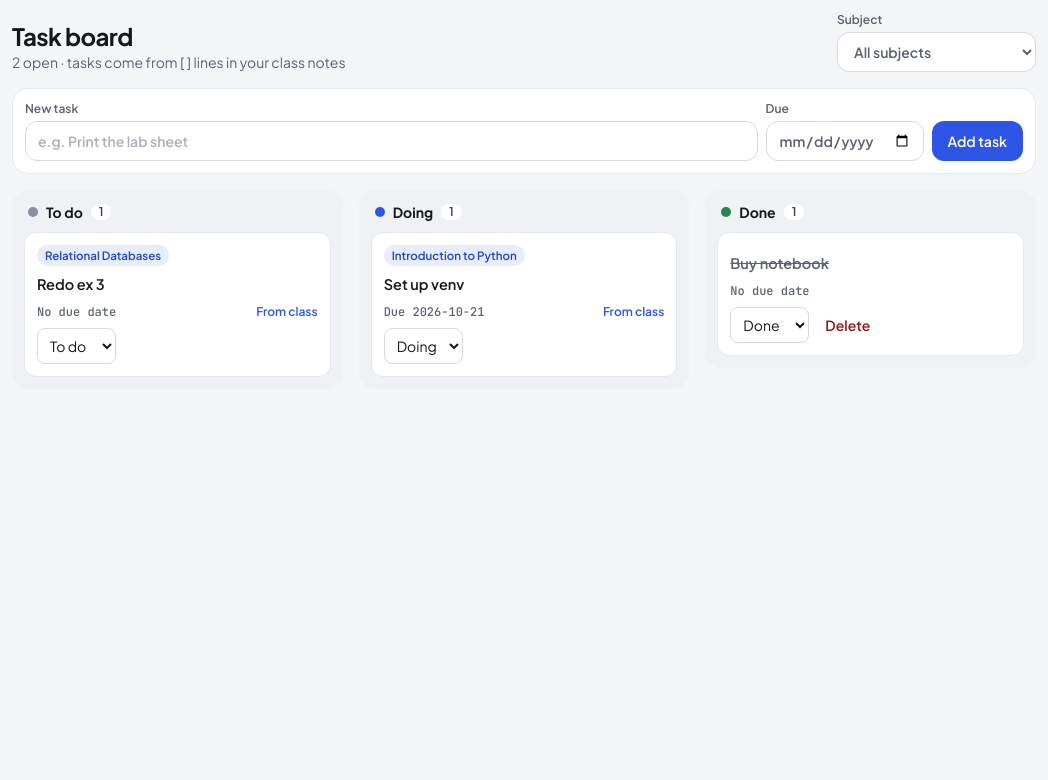
Test case: BoardPage › toasts after adding and moving a task
Type "Print slides" into the field labelled "New task" at coordinates (391, 141), box [25, 121, 758, 161]
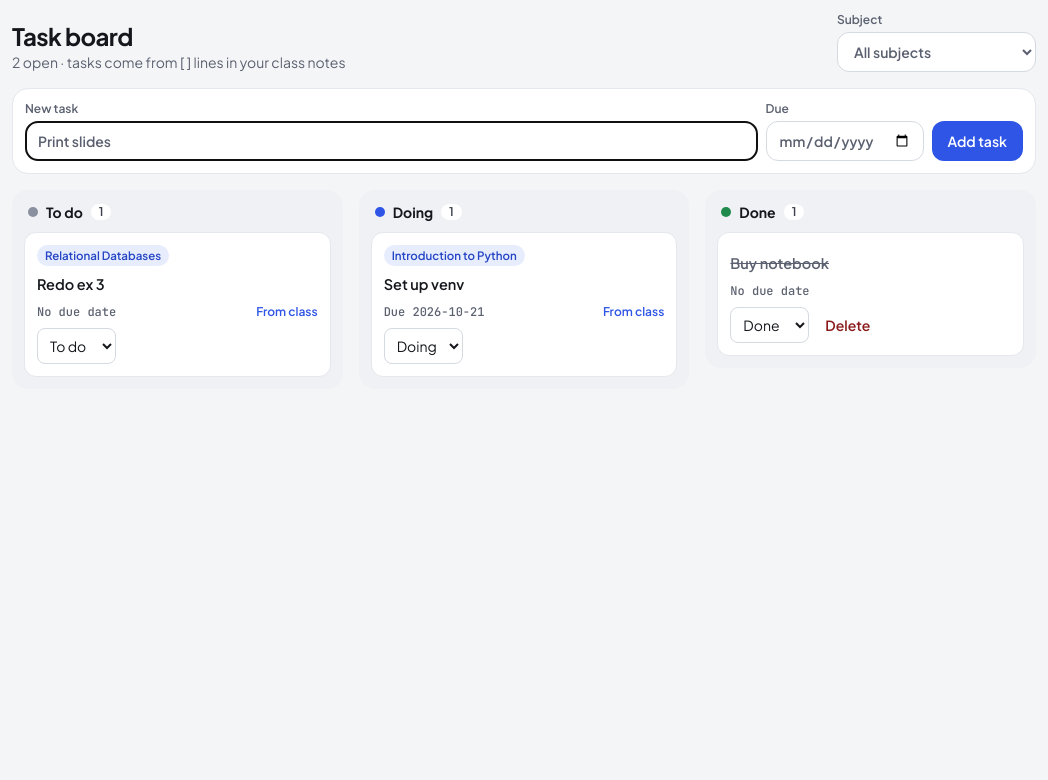
Click the button "Add task" at coordinates (977, 141), box [932, 121, 1023, 161]
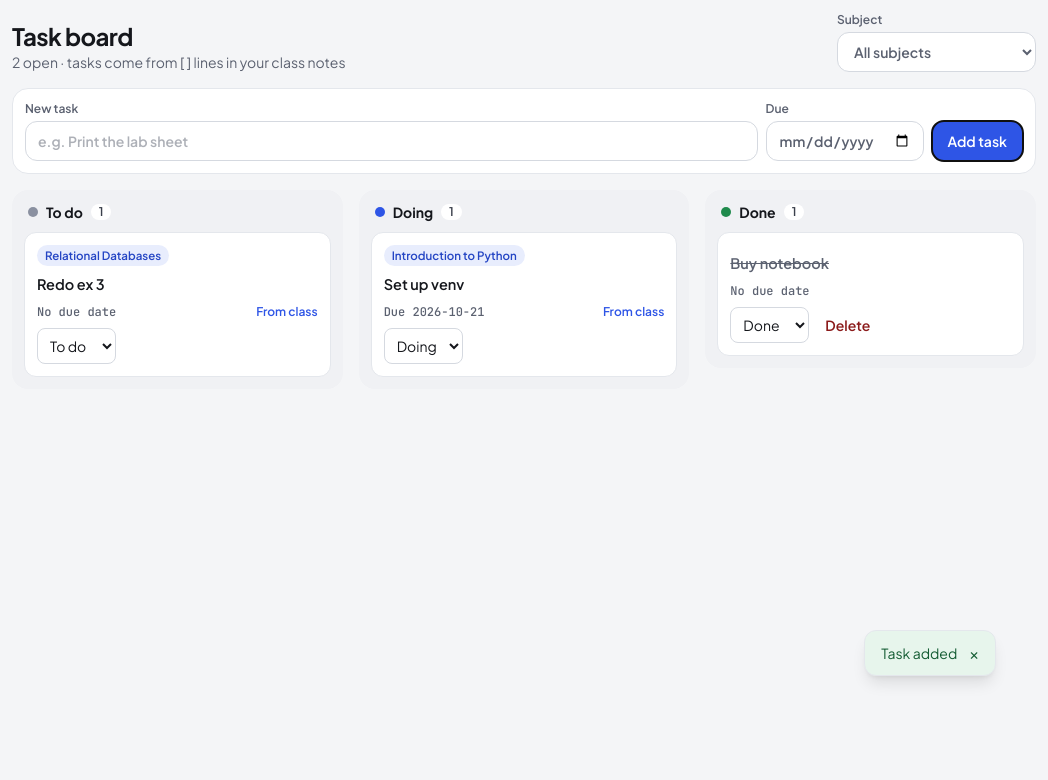
Check: the text "Task added" is shown, box [881, 643, 957, 663]
Select "Doing" in the dropdown named "Status for Redo ex 3" at coordinates (76, 346), box [37, 328, 116, 364]
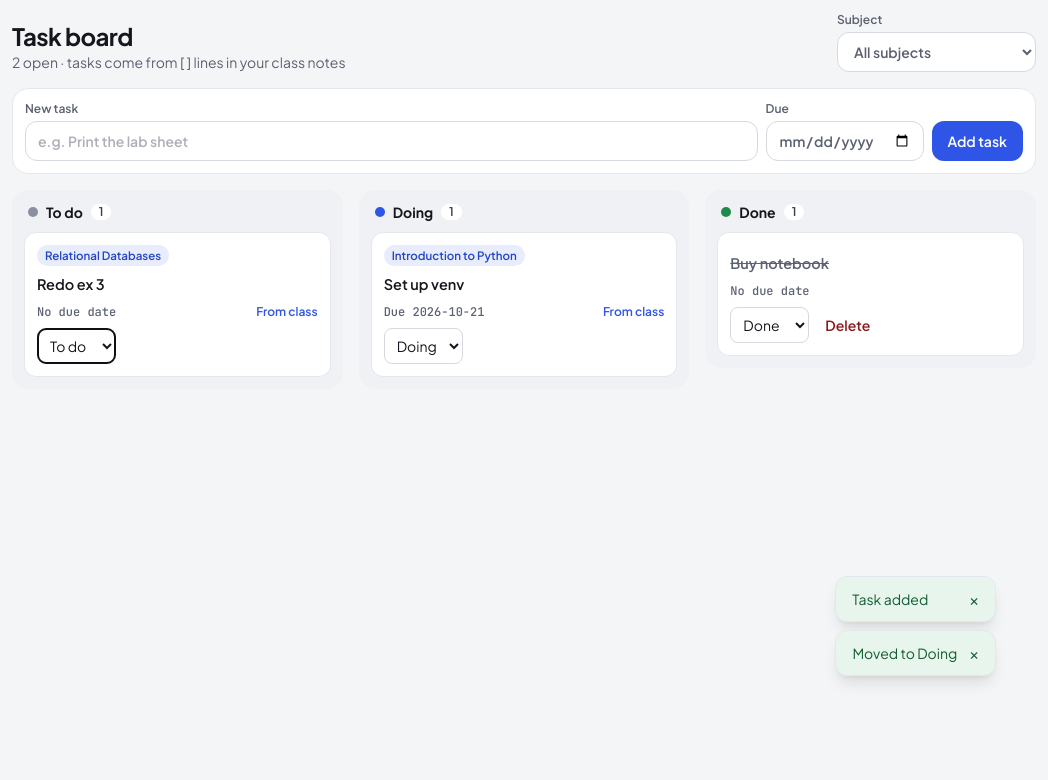
Check: the text "Moved to Doing" is shown, box [852, 643, 957, 663]
